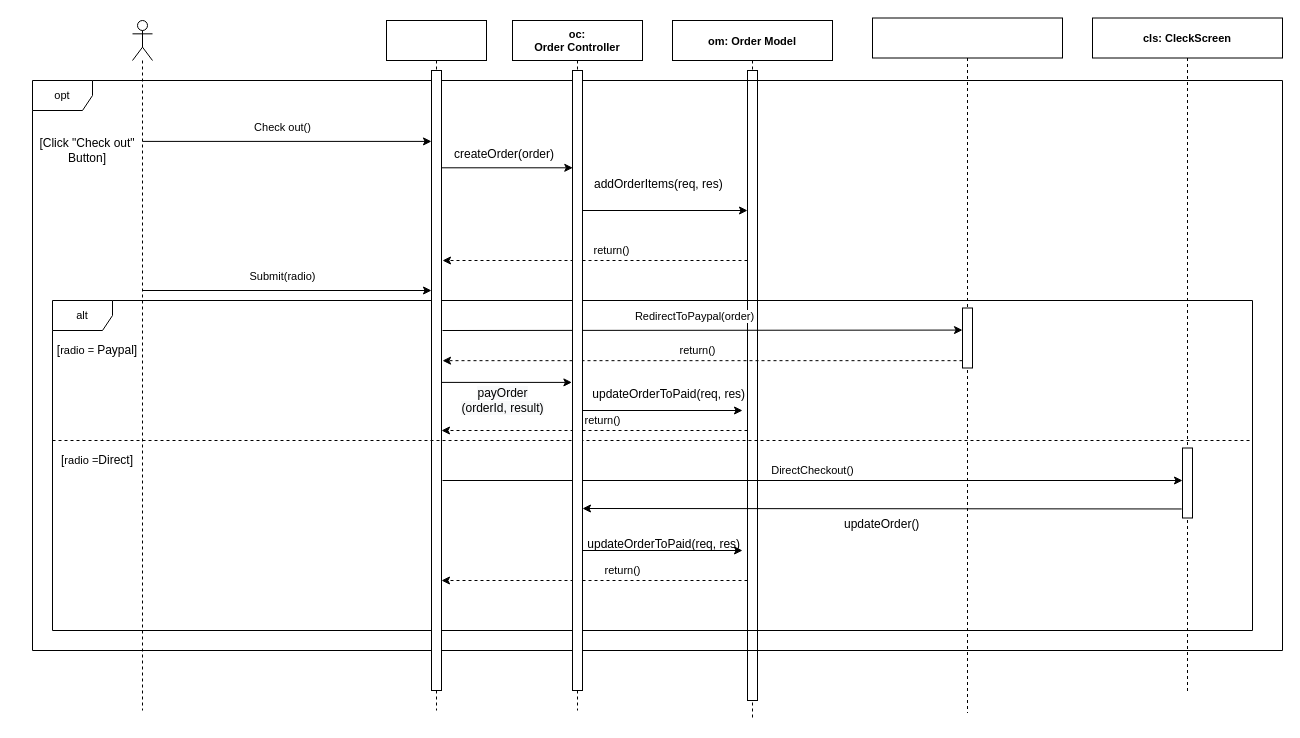
The diagram is 1300 pixels wide and 738 high, and some of its shapes have lost their labels. The shapes that lost their labels are listed below. From the top down, each one's box as (x1, y1, x2, y2) in pixels, then its label:
(132, 20, 152, 710): Customer
(386, 20, 486, 710): cs: CheckoutScreen
(872, 17, 1062, 713): opss : Online Payment Service Server
